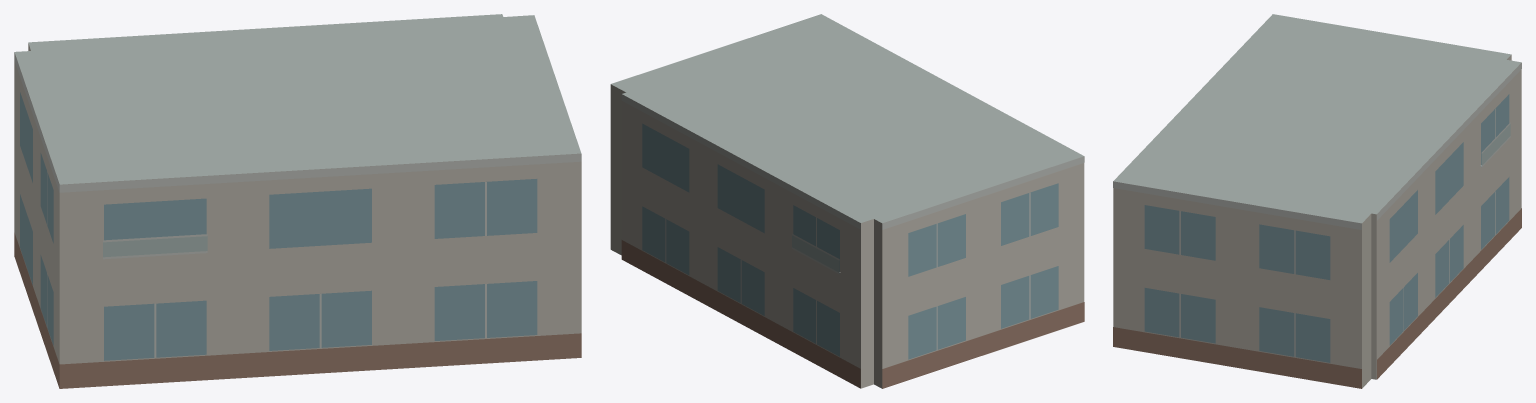
File: survey-upis-32823098.glb
3 renders of one model, left to right at view 1: azimuth 30°, elevation 25°; view 2: azimuth 150°, elevation 25°; view 3: azimuth 270°, elevation 25°, orthographic. The views are drawn at different scales.
Parts seen in each view (by area): view 1: survey-upis-32823098.tmp; view 2: survey-upis-32823098.tmp; view 3: survey-upis-32823098.tmp.
Part boxes in pixels (bbox=[...]): survey-upis-32823098.tmp: bbox=[14, 14, 581, 388]; survey-upis-32823098.tmp: bbox=[610, 14, 1084, 388]; survey-upis-32823098.tmp: bbox=[1113, 14, 1521, 388].
Bounding box in the file's own units: 16.57 × 6.1 × 13.67.
